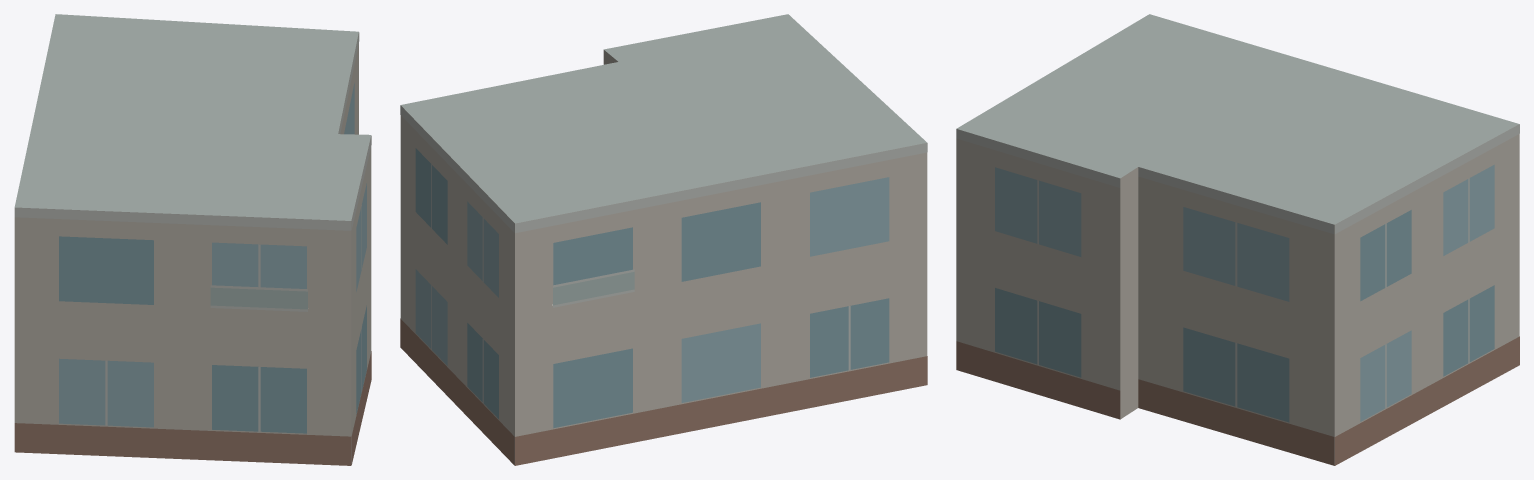
Rendered from survey-upis-32770157.glb.
3 renders of one model, left to right at view 1: azimuth 30°, elevation 25°; view 2: azimuth 150°, elevation 25°; view 3: azimuth 270°, elevation 25°, orthographic.
Visible parts, largest first — view 1: survey-upis-32770157.tmp; view 2: survey-upis-32770157.tmp; view 3: survey-upis-32770157.tmp.
Boxes of the visible parts, x1,y1,x2,y2 form: survey-upis-32770157.tmp: (14, 14, 371, 465); survey-upis-32770157.tmp: (400, 14, 927, 465); survey-upis-32770157.tmp: (956, 14, 1519, 465).
Bounding box in the file's own units: 11.44 × 6.1 × 12.93.
